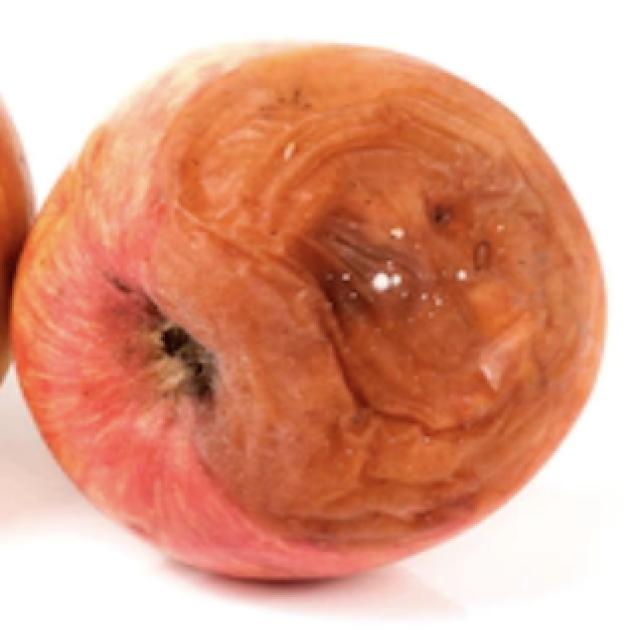apple: (13, 45, 603, 578), (0, 100, 34, 379)
